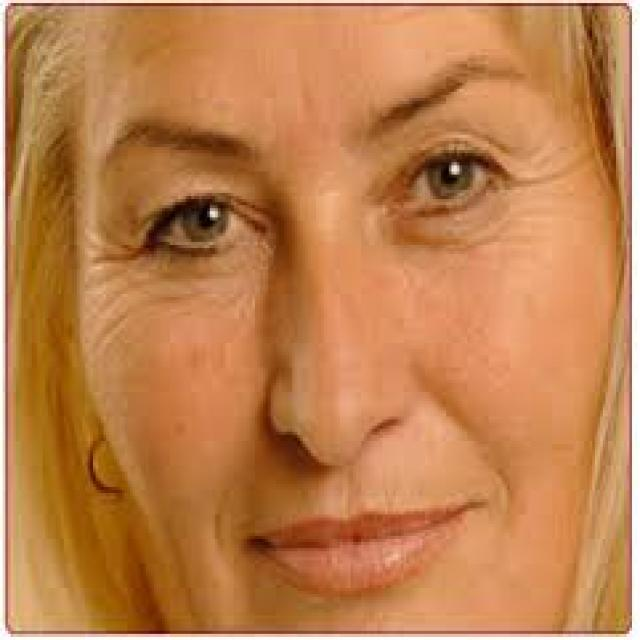Wrinkles: (85, 291, 198, 360), (512, 142, 598, 190), (83, 215, 146, 268)
